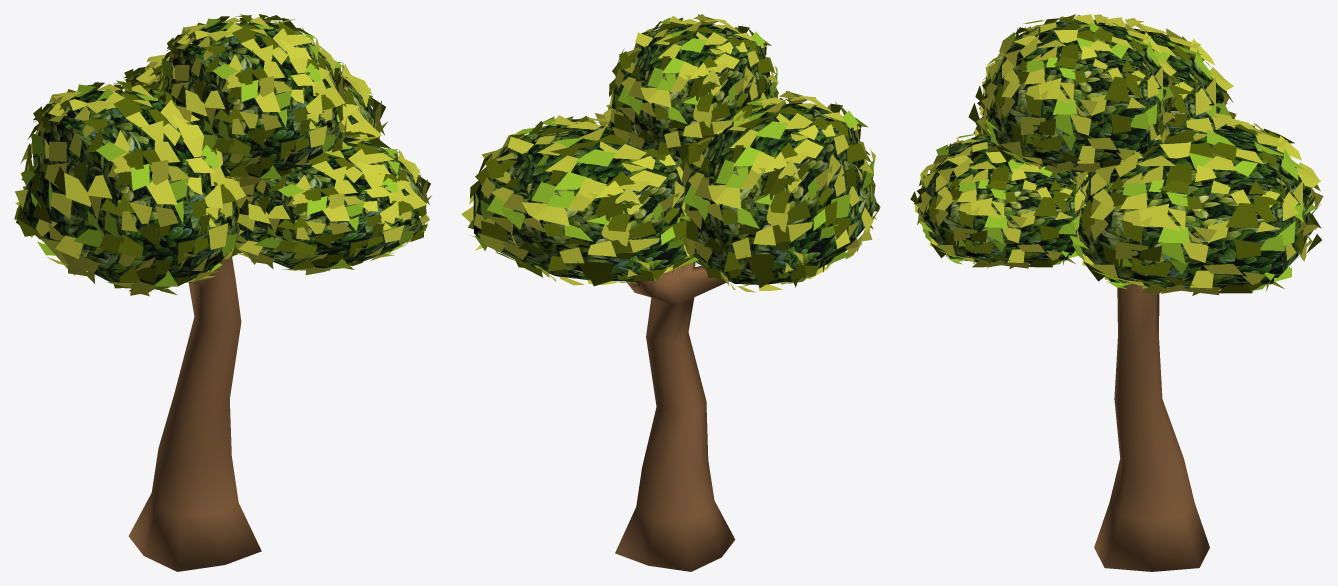
Rendered from Tree 2.1.fbx.
3 views of the same model, side by side, from view 1: azimuth 30°, elevation 25°; view 2: azimuth 150°, elevation 25°; view 3: azimuth 270°, elevation 25° (orthographic). The views are drawn at different scales.
Parts seen in each view (by area): view 1: Cube.009; view 2: Cube.009; view 3: Cube.009.
Boxes of the visible parts, bbox=[...] form: Cube.009: bbox=[14, 14, 431, 571]; Cube.009: bbox=[461, 14, 880, 571]; Cube.009: bbox=[910, 14, 1323, 571].
Bounding box in the file's own units: 388 × 547 × 388.
Materials: 5 (1 with a texture image).
